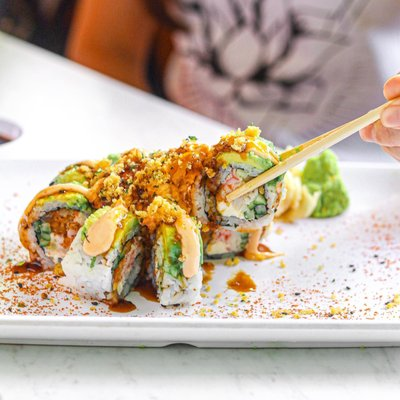salad: (222, 99, 399, 204)
